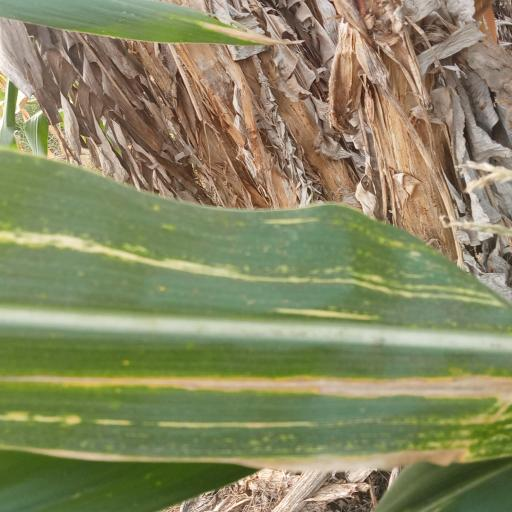Corn_Blight: (0, 147, 512, 462)
